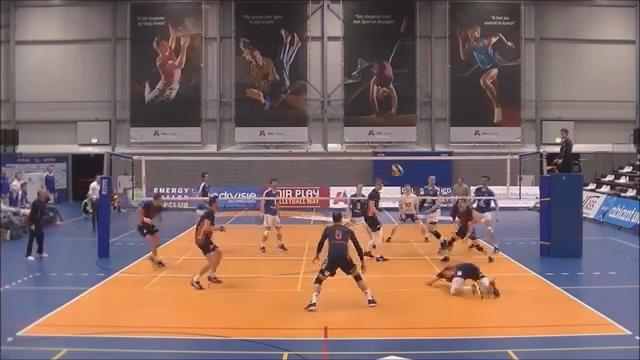Dig: (424, 260, 503, 299)
Player: (305, 211, 376, 310), (438, 199, 493, 262), (191, 195, 224, 289), (385, 184, 427, 241), (260, 179, 287, 252), (137, 193, 164, 266), (364, 179, 387, 261), (474, 175, 498, 252), (422, 176, 441, 240), (346, 183, 366, 225), (196, 172, 208, 215)
ball: (390, 161, 404, 177)
